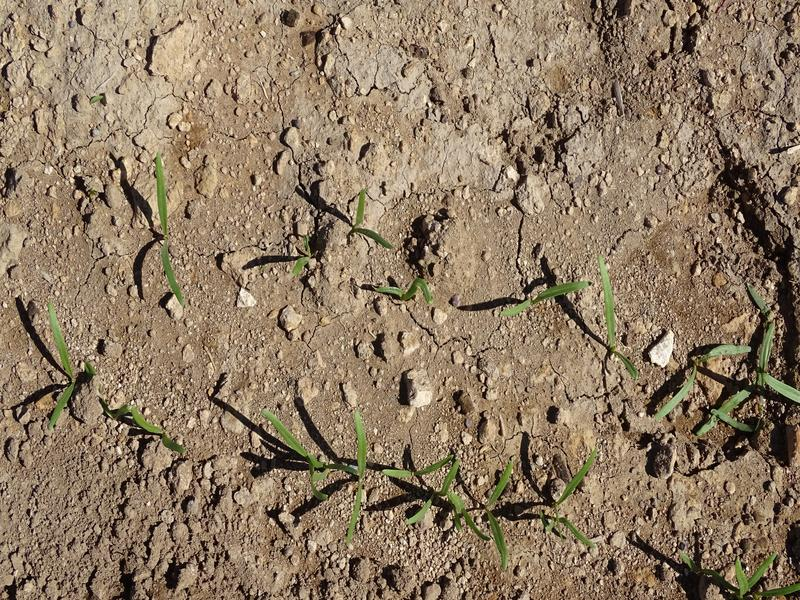Espinaca: (386, 456, 509, 565), (677, 327, 796, 433), (255, 398, 331, 503), (149, 151, 189, 295), (595, 256, 641, 377), (555, 448, 604, 546), (43, 297, 77, 435), (502, 274, 590, 327), (342, 405, 374, 547), (735, 544, 795, 599), (349, 187, 398, 254), (128, 404, 189, 456), (362, 273, 441, 308)
